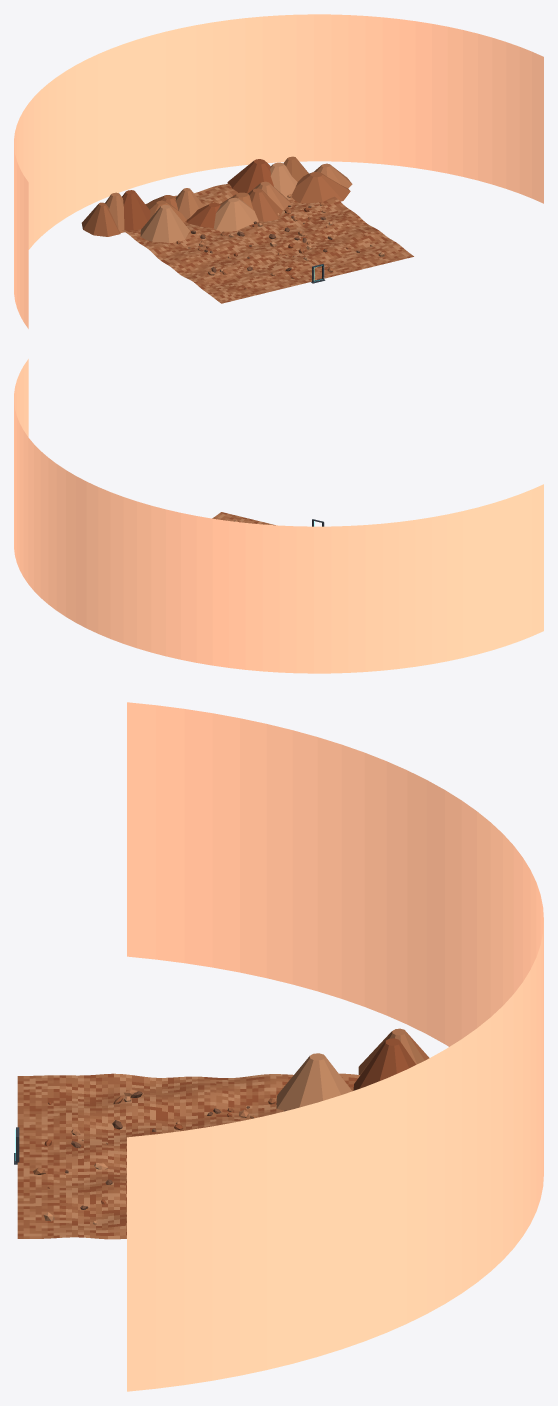
Rendered from MarsBackground.glb.
3 views of the same model, one above another, from view 1: azimuth 30°, elevation 25°; view 2: azimuth 150°, elevation 25°; view 3: azimuth 270°, elevation 25° (orthographic). The views are drawn at different scales.
Visible parts, largest first — view 1: MarsSky, MarsTerrain, MarsMountain_15, MarsMountain_03, MarsMountain_08, MarsMountain_12, MarsMountain_00, MarsMountain_02, MarsMountain_10, MarsMountain_13, MarsMountain_06, MarsMountain_07 (+3 smaller); view 2: MarsSky; view 3: MarsSky, MarsTerrain, MarsMountain_03, MarsMountain_02.
Part boxes in pixels (x1,y1,x2,y2): MarsSky: [14, 14, 543, 328]; MarsTerrain: [122, 183, 413, 303]; MarsMountain_15: [291, 172, 350, 203]; MarsMountain_03: [140, 205, 189, 243]; MarsMountain_08: [213, 198, 258, 231]; MarsMountain_12: [227, 159, 273, 193]; MarsMountain_00: [81, 202, 120, 236]; MarsMountain_02: [122, 190, 150, 232]; MarsMountain_10: [248, 188, 282, 221]; MarsMountain_13: [270, 162, 297, 197]; MarsMountain_06: [175, 188, 204, 219]; MarsMountain_07: [186, 203, 221, 228]; MarsSky: [14, 359, 543, 673]; MarsSky: [127, 702, 543, 1391]; MarsTerrain: [17, 1073, 359, 1239]; MarsMountain_03: [276, 1053, 351, 1110]; MarsMountain_02: [353, 1038, 415, 1090].
Size of the model in its own units: 117 by 32 by 60.43.
